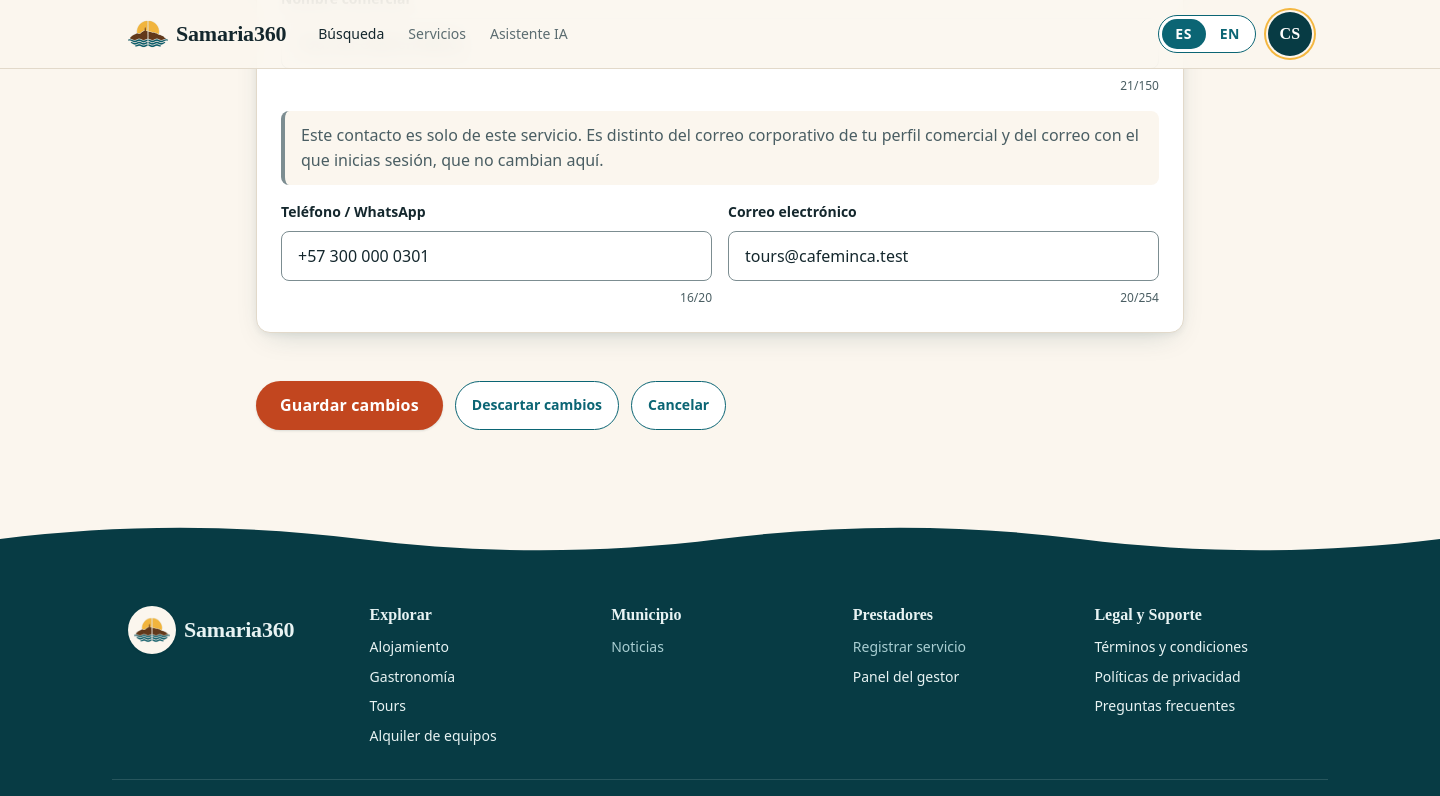
Datos comerciales del servicio (RF43) › 409 SERVICIO_MODIFICADO cuya relectura ya está Rechazado: vuelve al detalle con el aviso (DEC-201)
(page scrolled)
Click the button "Guardar cambios" at (349, 405), box left=256, top=381, right=443, bottom=430
(page scrolled)
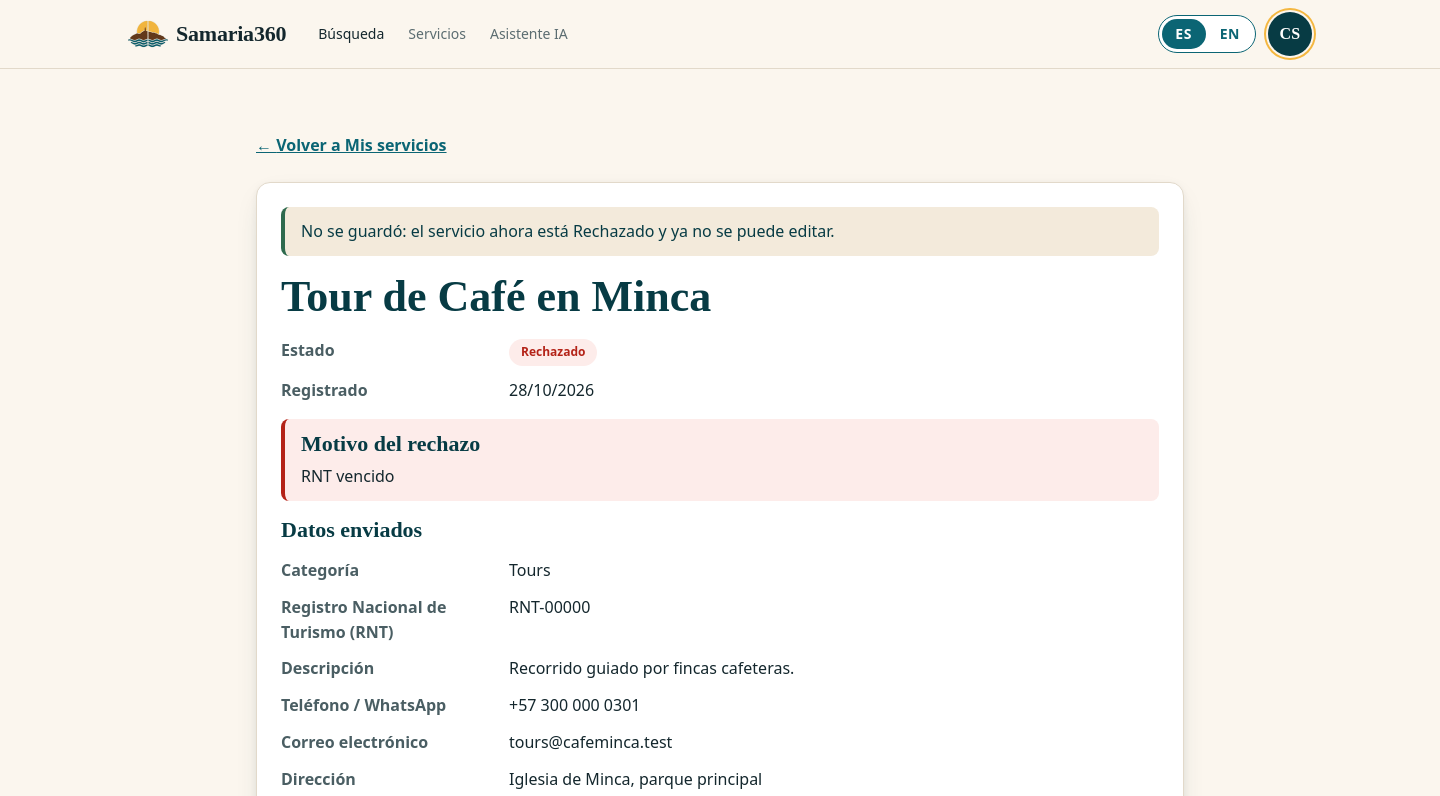
Now the text "No se guardó: el servicio ahora está Rechazado y ya no se puede editar." is shown, box left=281, top=207, right=1159, bottom=256
